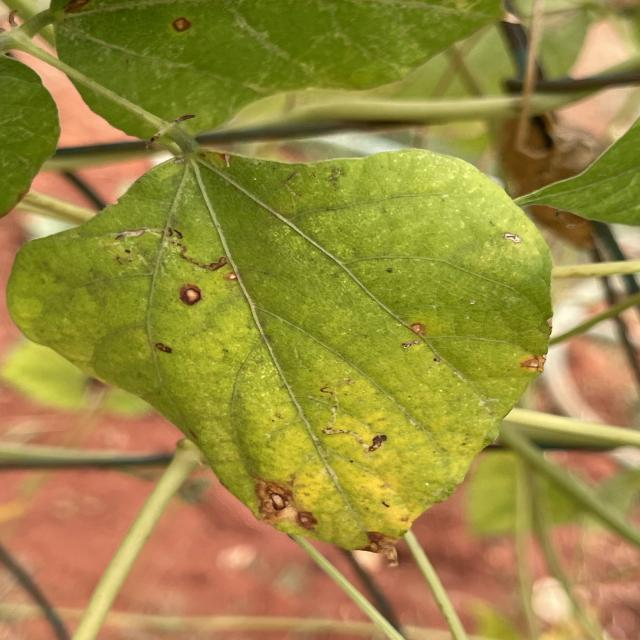Dolicos bean_cercospora leaf spot: (2, 145, 562, 554)
